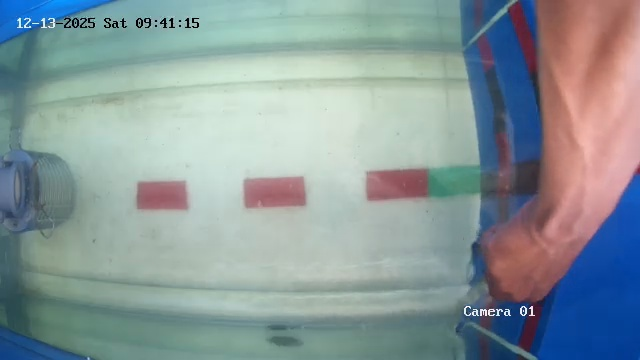fish: (273, 315, 313, 341)
